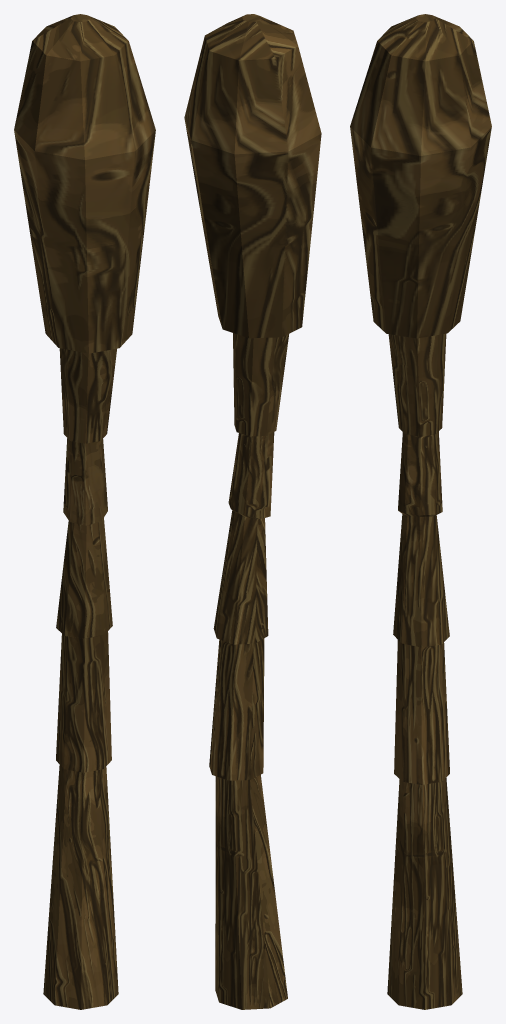
The model's file is PalmTreeTrunk.fbx.
The picture shows the model from 3 angles, left to right: view 1: azimuth 90°, elevation 25°; view 2: azimuth 210°, elevation 25°; view 3: azimuth 270°, elevation 25°; orthographic projection.
Visible parts, largest first — view 1: pTrunk1; view 2: pTrunk1; view 3: pTrunk1.
Boxes of the visible parts, box(x1,y1,x2,y2) form: pTrunk1: box(14, 14, 155, 1009); pTrunk1: box(184, 14, 321, 1009); pTrunk1: box(350, 14, 491, 1009).
Size of the model in its own units: 73.69 by 560 by 73.76.
1 material, 1 textured.
